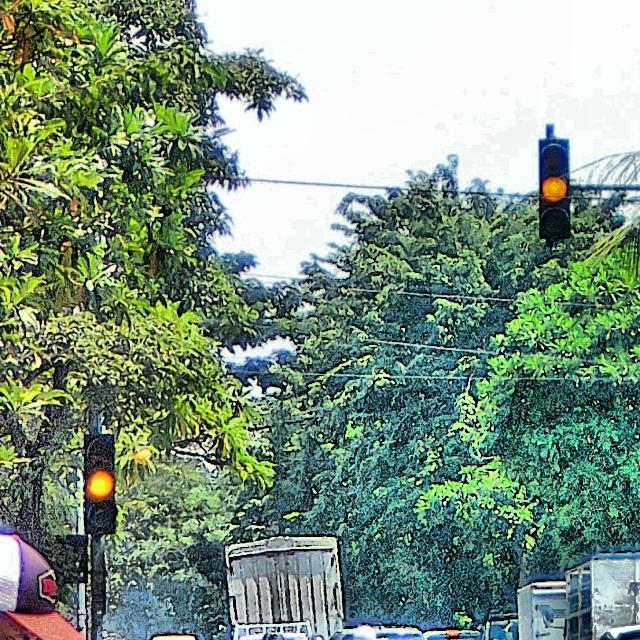yellow: (85, 433, 118, 534), (539, 139, 569, 238)
